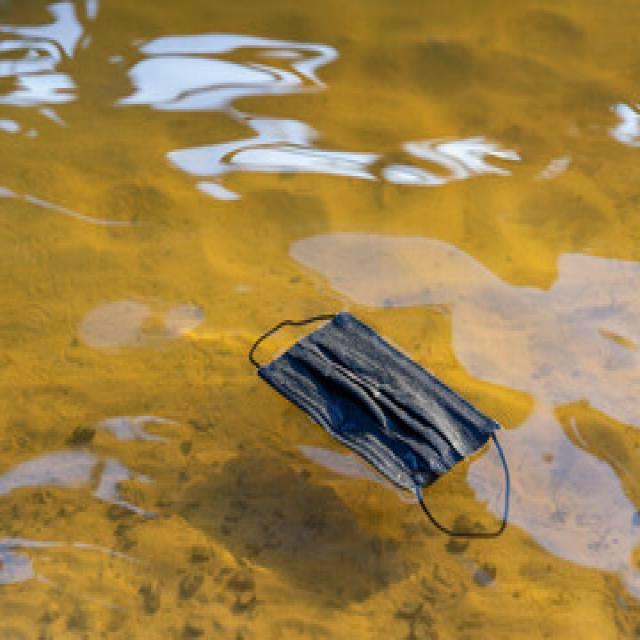Trash: (248, 308, 512, 539)
